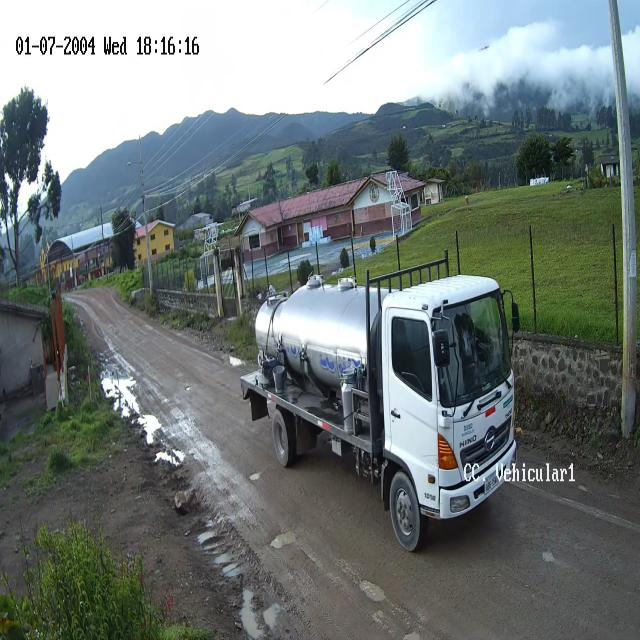TRUCK: (242, 275, 518, 553)
